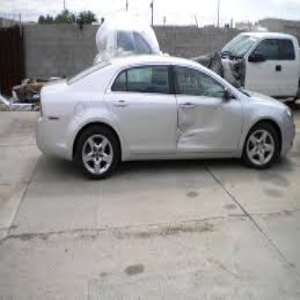door: (160, 104, 239, 154)
